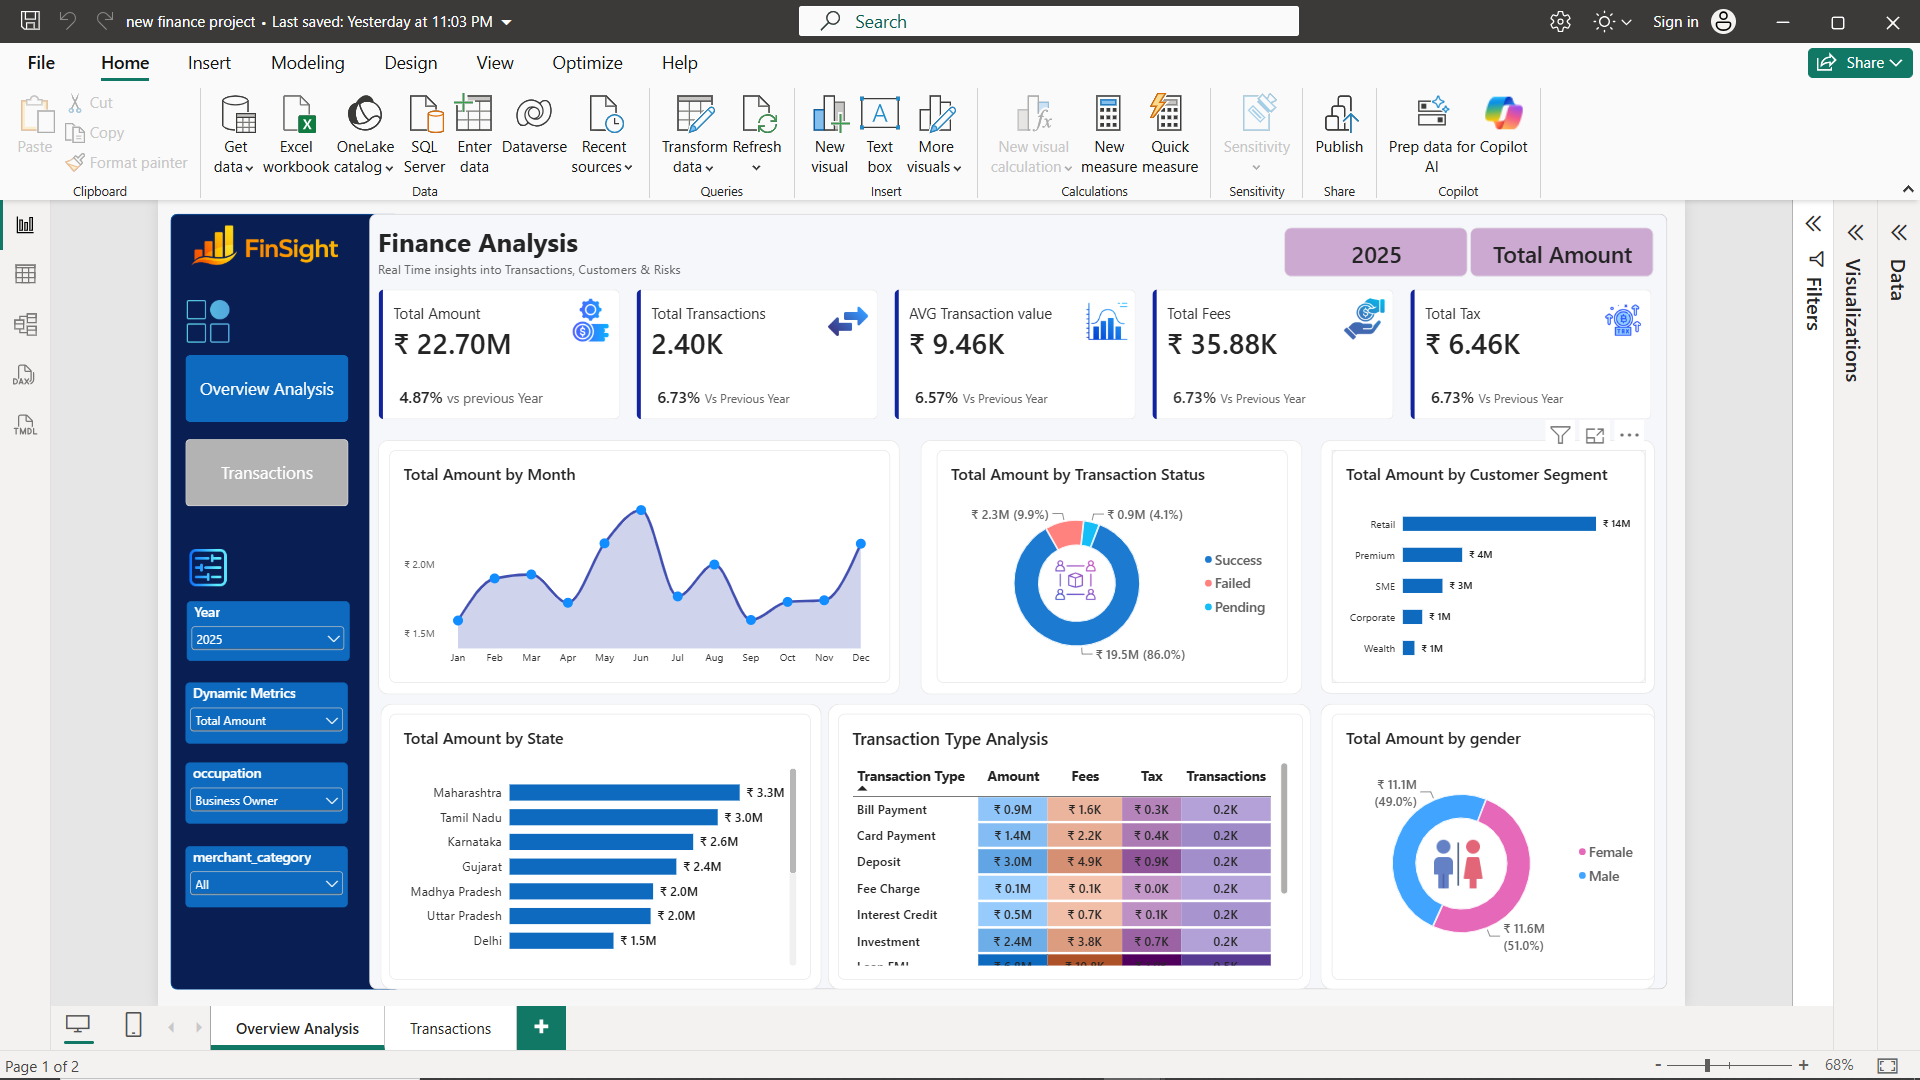

What the dashboard file says about the page in this screenshot:
{"tool":"powerbi","page":{"name":"Overview Analysis","canvas":[1800,950],"ordinal":0},"visuals":[{"type":"shape","box":[14.7,16.4,272.1,914.7],"z":0},{"type":"shape","box":[248.5,16.4,1530,914.1],"z":1000},{"type":"image","box":[32.7,16.4,191.3,75.2],"z":2000},{"type":"cardVisual","fields":{"Data":["finance_transactions.Dashboard Tittle"]},"box":[260,16.7,393.3,88.3],"z":3000},{"type":"cardVisual","fields":{"Data":["finance_transactions.Total Amount","finance_transactions.Total Trasactions","finance_transactions.AVG Transaction","finance_transactions.Total Fees","finance_transactions.Total Tax"]},"box":[260,105,1505,155],"z":4000},{"type":"slicer","fields":{"Values":["Calender Table.Year"]},"box":[33.3,473.3,191.7,70],"z":5000},{"type":"image","box":[1396.4,114.5,50,50],"z":6000},{"type":"image","box":[484,116.1,50,50],"z":7000},{"type":"image","box":[788.2,117.7,50,50],"z":8000},{"type":"image","box":[1093.9,117.7,50,50],"z":9000},{"type":"image","box":[1702.2,116.1,50,50],"z":10000},{"type":"slicer","fields":{"Values":["Dynamic Metrics.Dynamic Metrics"]},"box":[32.7,569,191.3,71.9],"z":11000},{"type":"shape","box":[260,282.9,615,300],"z":12000},{"type":"areaChart","title":"Total Amount by Month","fields":{"Category":["Calender Table.Month"],"Y":["finance_transactions.Total Amount"]},"box":[273.1,294.3,590.3,274.7],"z":13000},{"type":"cardVisual","fields":{"Data":["finance_transactions.Selected Year","finance_transactions.Selected Dynamic Measure"]},"box":[1327.8,32.7,436.6,58.9],"z":14000},{"type":"shape","box":[899.3,282.9,450,300],"z":15000},{"type":"donutChart","fields":{"Category":["finance_transactions.transaction_status"],"Y":["finance_transactions.Total Amount"]},"box":[917.3,294.3,413.7,274.7],"z":16000},{"type":"shape","box":[1370.3,282.9,394.1,299.2],"z":17000},{"type":"barChart","fields":{"Category":["customers.customer_segment"],"Y":["finance_transactions.Total Amount"]},"box":[1383.4,294.3,369.6,274.7],"z":17001},{"type":"shape","box":[261.6,593.6,520,336.8],"z":17002},{"type":"barChart","fields":{"Category":["customers.state"],"Y":["finance_transactions.Total Amount"]},"box":[273.1,605,497.1,314],"z":17003},{"type":"shape","box":[789.8,593.6,569,336.8],"z":17004},{"type":"tableEx","title":"Transaction Type Analysis","fields":{"Values":["finance_transactions.transaction_type","finance_transactions.Total Amount","finance_transactions.Total Fees","finance_transactions.Total Tax","finance_transactions.Total Transactions"]},"box":[801.2,605,547.8,314],"z":17005},{"type":"shape","box":[1370.3,593.6,394.1,336.8],"z":17006},{"type":"donutChart","fields":{"Category":["customers.gender"],"Y":["finance_transactions.Total Amount"]},"box":[1383.4,605,381,314],"z":17007},{"type":"image","box":[1044.9,423.5,73.6,50.7],"z":17008},{"type":"image","box":[1491.3,750.5,83.4,65.4],"z":17009},{"type":"slicer","fields":{"Values":["customers.occupation"]},"box":[31.8,663.2,191.3,71.9],"z":17010},{"type":"slicer","fields":{"Values":["finance_transactions.merchant_category"]},"box":[31.8,762.2,191.3,71.9],"z":17011},{"type":"pageNavigator","box":[31.8,182.2,192.8,178.6],"z":17012},{"type":"image","box":[33.6,118.5,50,50],"z":17013},{"type":"image","box":[33.6,408.5,50,50],"z":17014}]}

Visuals, with their boxes on the page's 1800x950 design canvas (x1, y1, x2, y2). These are canvas units, not pixel positions in the 1920x1080 screenshot, which may show the page scaled, cropped or inside an application window:
shape: <bbox>15, 16, 287, 931</bbox>
shape: <bbox>248, 16, 1778, 930</bbox>
image: <bbox>33, 16, 224, 92</bbox>
cardVisual - finance_transactions.Dashboard Tittle: <bbox>260, 17, 653, 105</bbox>
cardVisual - finance_transactions.Total Amount x finance_transactions.Total Trasactions: <bbox>260, 105, 1765, 260</bbox>
slicer - Calender Table.Year: <bbox>33, 473, 225, 543</bbox>
image: <bbox>1396, 114, 1446, 164</bbox>
image: <bbox>484, 116, 534, 166</bbox>
image: <bbox>788, 118, 838, 168</bbox>
image: <bbox>1094, 118, 1144, 168</bbox>
image: <bbox>1702, 116, 1752, 166</bbox>
slicer - Dynamic Metrics.Dynamic Metrics: <bbox>33, 569, 224, 641</bbox>
shape: <bbox>260, 283, 875, 583</bbox>
"Total Amount by Month" areaChart: <bbox>273, 294, 863, 569</bbox>
cardVisual - finance_transactions.Selected Year x finance_transactions.Selected Dynamic Measure: <bbox>1328, 33, 1764, 92</bbox>
shape: <bbox>899, 283, 1349, 583</bbox>
donutChart - finance_transactions.transaction_status x finance_transactions.Total Amount: <bbox>917, 294, 1331, 569</bbox>
shape: <bbox>1370, 283, 1764, 582</bbox>
barChart - customers.customer_segment x finance_transactions.Total Amount: <bbox>1383, 294, 1753, 569</bbox>
shape: <bbox>262, 594, 782, 930</bbox>
barChart - customers.state x finance_transactions.Total Amount: <bbox>273, 605, 770, 919</bbox>
shape: <bbox>790, 594, 1359, 930</bbox>
"Transaction Type Analysis" tableEx: <bbox>801, 605, 1349, 919</bbox>
shape: <bbox>1370, 594, 1764, 930</bbox>
donutChart - customers.gender x finance_transactions.Total Amount: <bbox>1383, 605, 1764, 919</bbox>
image: <bbox>1045, 424, 1118, 474</bbox>
image: <bbox>1491, 750, 1575, 816</bbox>
slicer - customers.occupation: <bbox>32, 663, 223, 735</bbox>
slicer - finance_transactions.merchant_category: <bbox>32, 762, 223, 834</bbox>
pageNavigator: <bbox>32, 182, 225, 361</bbox>
image: <bbox>34, 118, 84, 168</bbox>
image: <bbox>34, 408, 84, 458</bbox>
